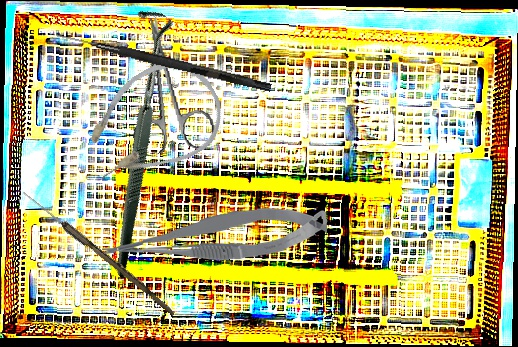Cannula: (65, 45, 238, 201)
Hook Surgical: (3, 1, 266, 279), (54, 31, 273, 92)
Iris Scissors: (115, 10, 218, 158)
Micro Scissor: (101, 204, 328, 266)
Surgical Spoon: (19, 189, 179, 316)
